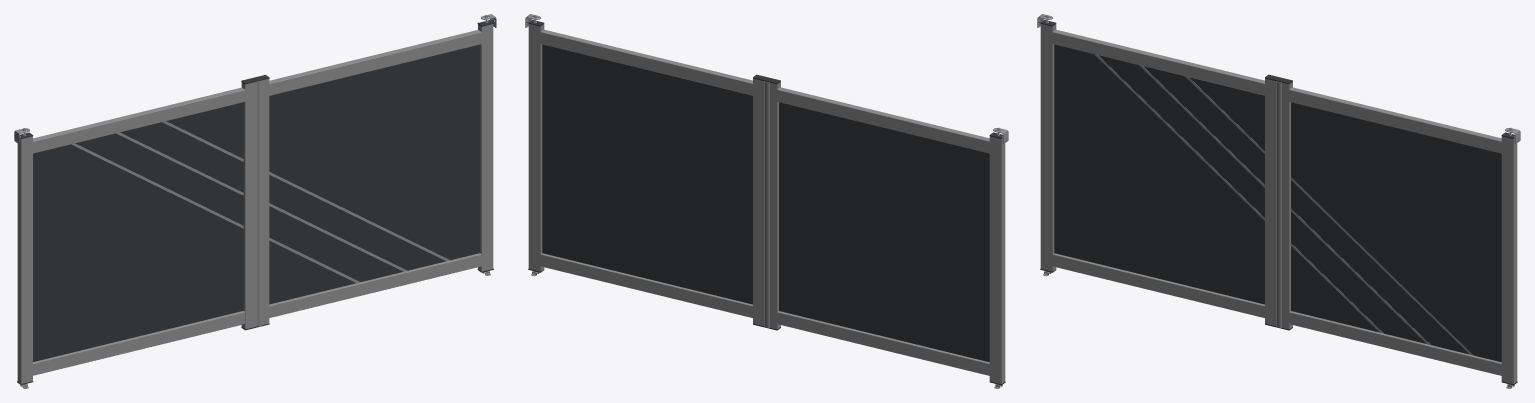
3 renders of one model, left to right at view 1: azimuth 30°, elevation 25°; view 2: azimuth 150°, elevation 25°; view 3: azimuth 330°, elevation 25°, orthographic.
Visible parts, largest first — view 1: Chapa Alucobond026, Chapa Alucobond027, Shape107412643, Shape107412740, Shape107412638, Shape107412683, Shape107412660, Shape107412684, Shape107412659, Shape107412739, Shape107412637, Rectangle046 (+3 smaller); view 2: Chapa Alucobond027, Chapa Alucobond026, Shape107412643, Shape107412740, Shape107412660, Shape107412683, Shape107412659, Shape107412684, Shape107412739, Shape107412638, Shape107412738; view 3: Chapa Alucobond026, Chapa Alucobond027, Shape107412740, Shape107412643, Shape107412683, Shape107412660, Shape107412659, Shape107412684, Shape107412638, Shape107412739, Shape107412637, Rectangle046 (+3 smaller).
Boxes of the visible parts, x1,y1,x2,y2 form: Chapa Alucobond026: (33,102,243,361); Chapa Alucobond027: (269,44,479,304); Shape107412643: (17,136,32,383); Shape107412740: (478,24,493,271); Shape107412638: (241,81,256,329); Shape107412683: (269,30,481,95); Shape107412660: (33,87,245,153); Shape107412684: (269,253,481,317); Shape107412659: (33,311,244,375); Shape107412739: (258,78,269,324); Shape107412637: (257,81,261,326); Rectangle046: (269,172,449,261); Chapa Alucobond027: (542,44,752,304); Chapa Alucobond026: (779,102,989,362); Shape107412643: (989,136,1005,383); Shape107412740: (528,24,544,271); Shape107412660: (777,87,989,153); Shape107412683: (540,29,752,95); Shape107412659: (777,311,989,375); Shape107412684: (540,253,752,317); Shape107412739: (753,78,764,326); Shape107412638: (765,81,780,329); Shape107412738: (765,81,769,327); Chapa Alucobond026: (1054,44,1264,304); Chapa Alucobond027: (1291,102,1501,362); Shape107412740: (1501,136,1517,383); Shape107412643: (1040,24,1056,271); Shape107412683: (1289,87,1501,153); Shape107412660: (1052,29,1264,95); Shape107412659: (1052,253,1264,317); Shape107412684: (1289,311,1501,375); Shape107412638: (1265,78,1276,326); Shape107412739: (1277,81,1292,329); Shape107412637: (1277,81,1281,327); Rectangle046: (1291,177,1473,355).
Size of the model in its own units: 3260 by 1688 by 68.93.
5 materials, 2 textured.
